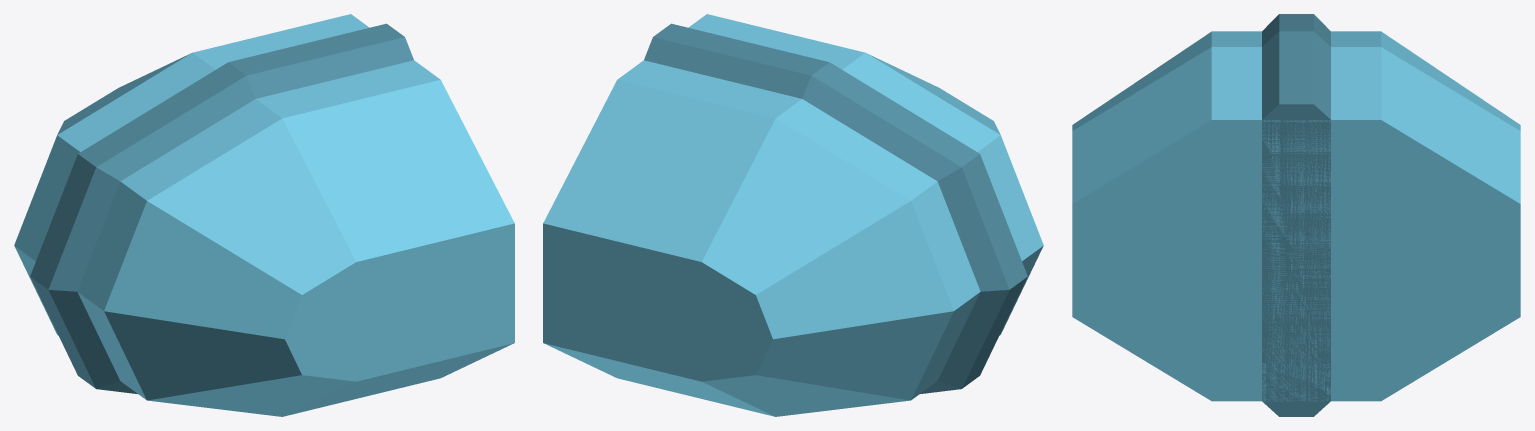
Rendered from spacestation_weapon_modular_gun_base.glb.
3 renders of one model, left to right at view 1: azimuth 30°, elevation 25°; view 2: azimuth 150°, elevation 25°; view 3: azimuth 270°, elevation 25°, orthographic. The views are drawn at different scales.
Size of the model in its own units: 1.12 by 1 by 1.3.
